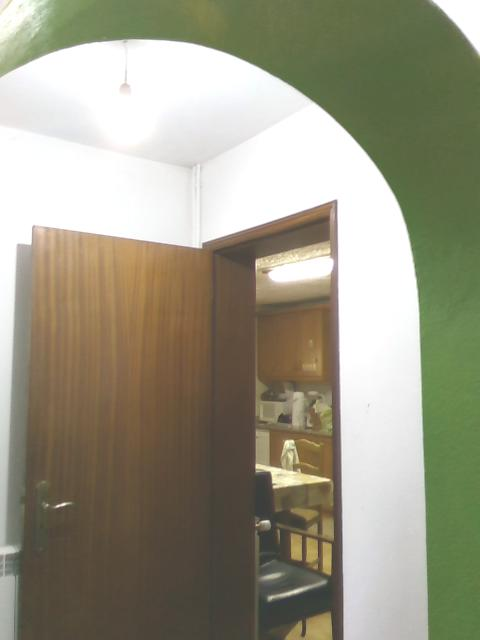open_door: (200, 195, 344, 639)
